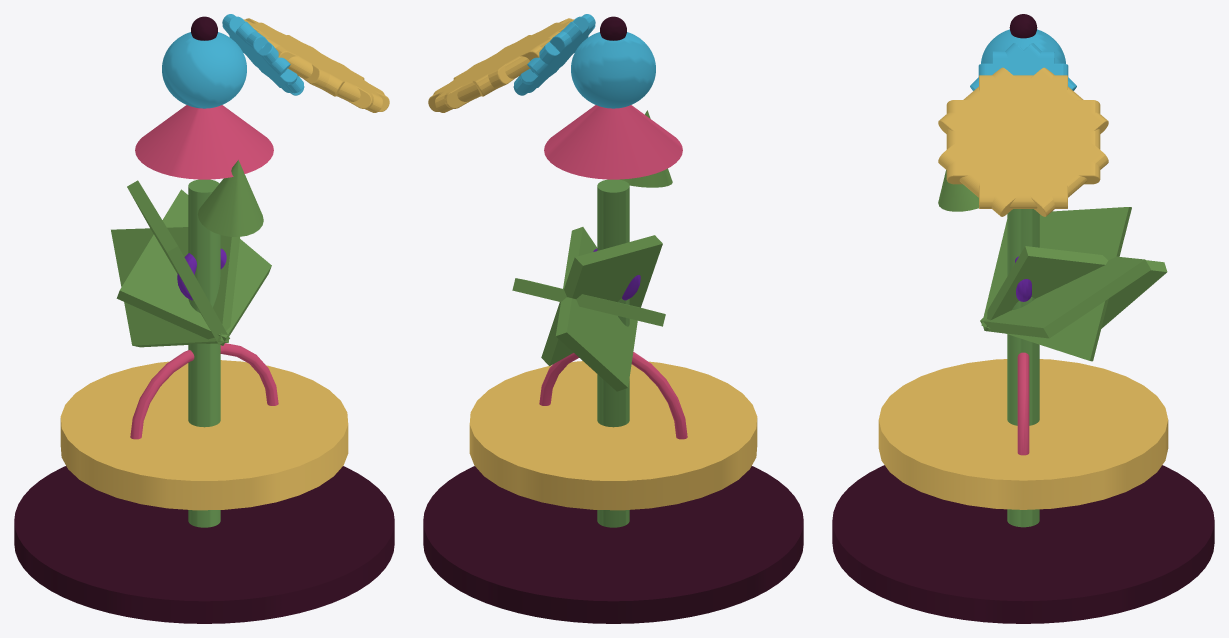
The model's file is 0096_植物图鉴_桃.glb.
3 renders of one model, left to right at view 1: azimuth 30°, elevation 25°; view 2: azimuth 150°, elevation 25°; view 3: azimuth 270°, elevation 25°, orthographic.
Parts seen in each view (by area): view 1: card_0096; view 2: card_0096; view 3: card_0096.
Boxes of the visible parts, x1,y1,x2,y2 form: card_0096: (14,14,394,623); card_0096: (423,14,803,623); card_0096: (832,14,1214,623).
Bounding box in the file's own units: 0.6663 × 1 × 0.6561.
